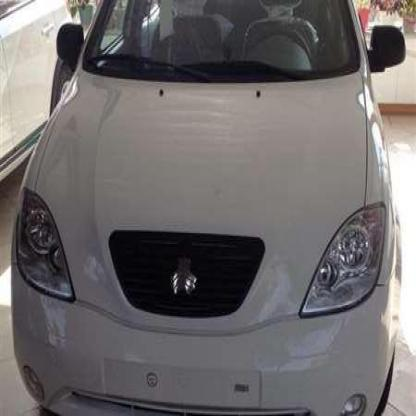Car: (21, 0, 407, 416), (0, 0, 90, 197)
